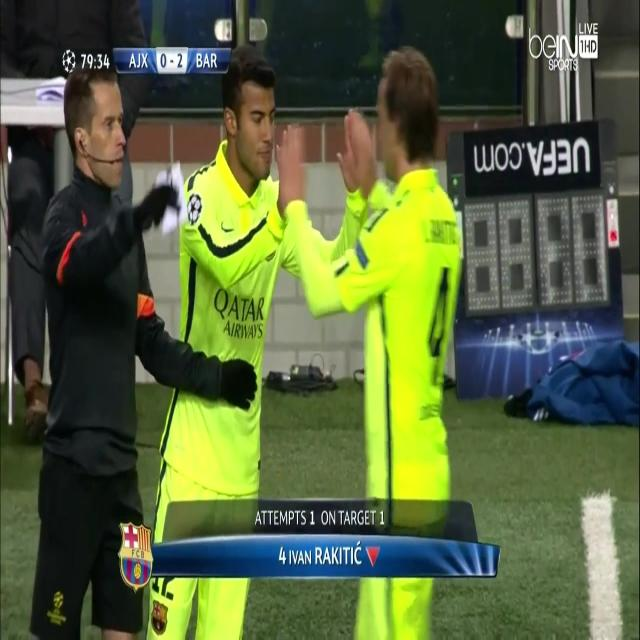Player: (146, 44, 350, 636), (280, 42, 467, 634)
